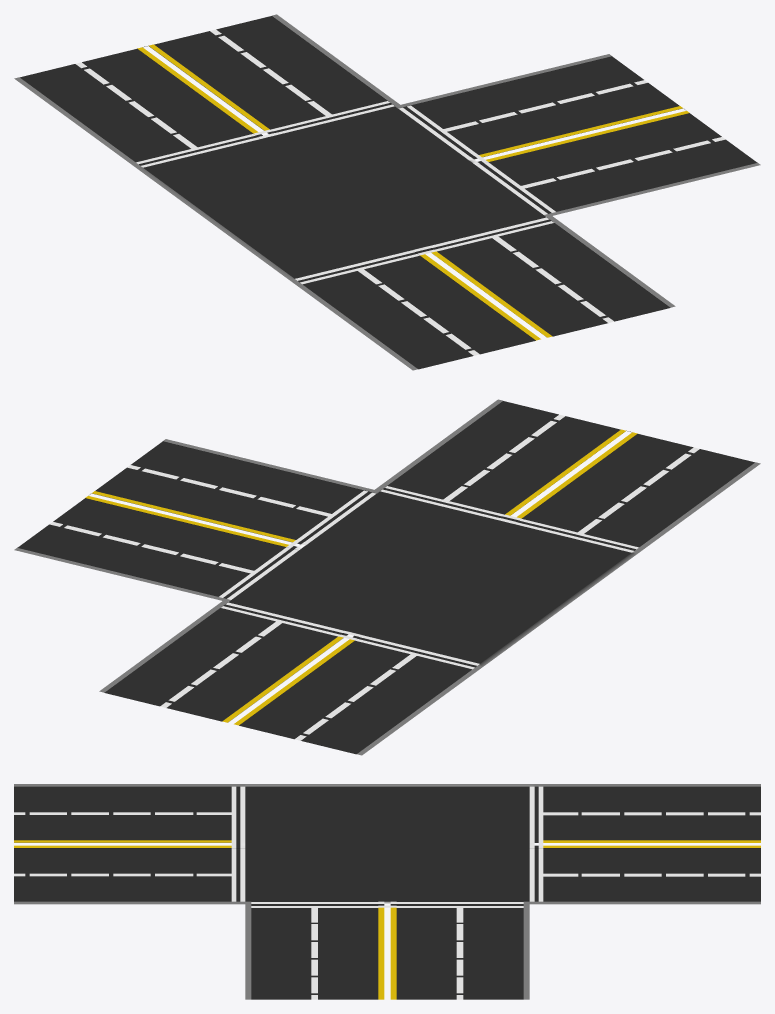
Rendered from T_road 1.fbx.
3 renders of one model, top to bottom at view 1: azimuth 30°, elevation 25°; view 2: azimuth 150°, elevation 25°; view 3: azimuth 270°, elevation 25°, orthographic. The views are drawn at different scales.
Parts seen in each view (by area): view 1: Plane.002; view 2: Plane.002; view 3: Plane.002.
Boxes of the visible parts, x1,y1,x2,y2 form: Plane.002: (14,14,760,370); Plane.002: (14,399,760,755); Plane.002: (14,784,760,999).
Bounding box in the file's own units: 4407 × 2.29 × 6456.
